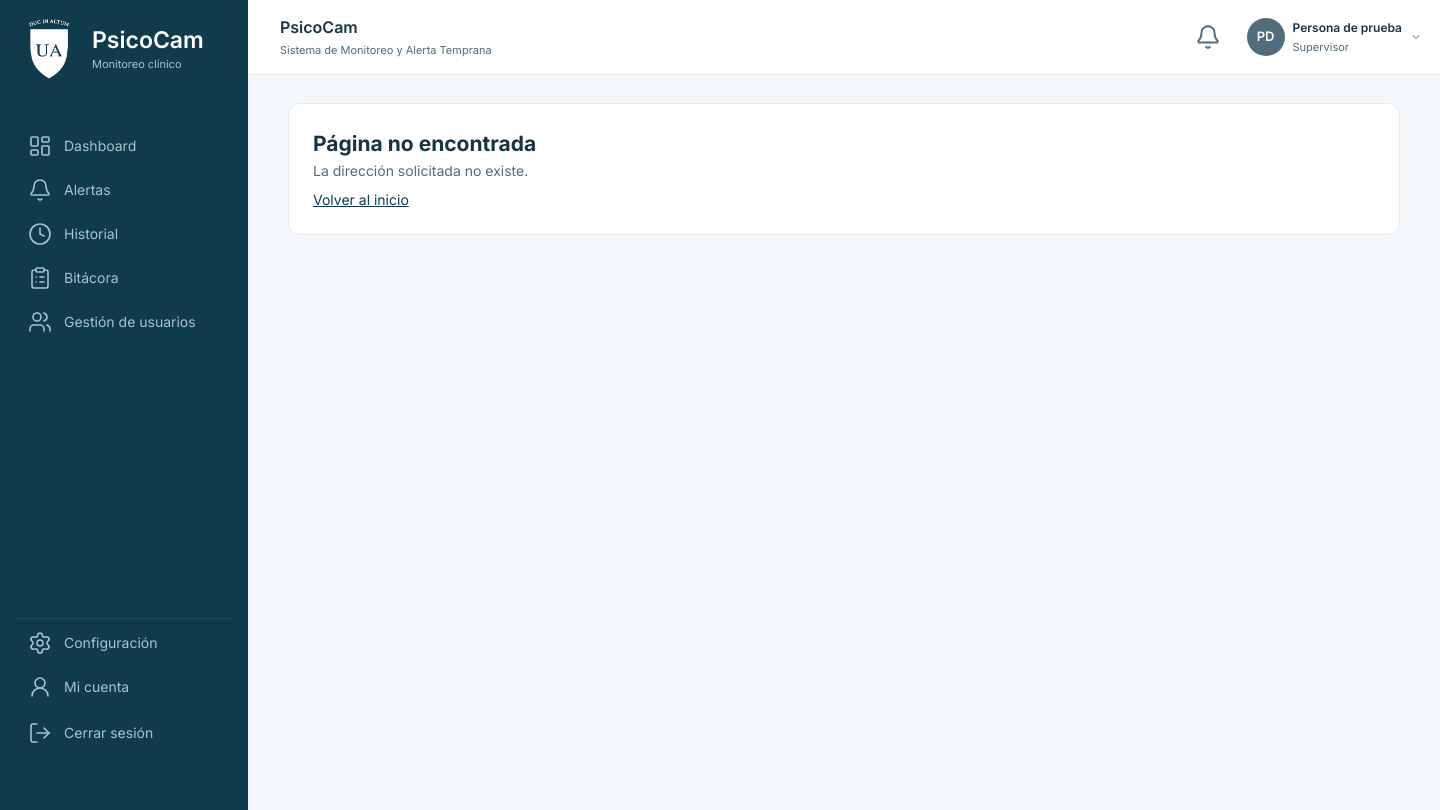
Integración de SCRUM-27 › muestra la página no encontrada dentro del Layout y permite volver
The image size is (1440, 810).
Expected: the heading "Página no encontrada" is shown, [313,131,536,156]
Click the link "Volver al inicio": {"x": 361, "y": 199} [313,190,409,208]
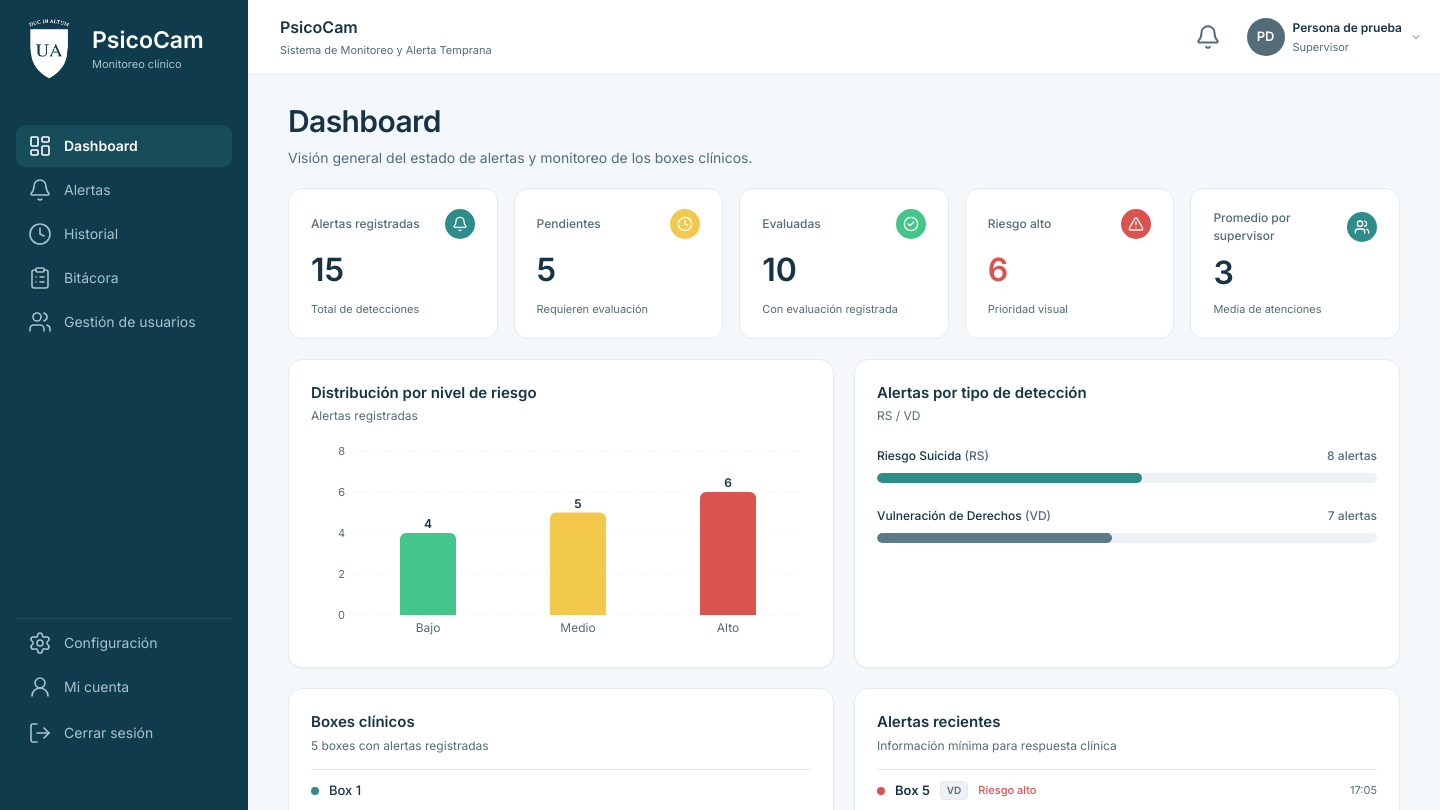
Now the heading "Dashboard" is shown, box [288,103,441,139]
